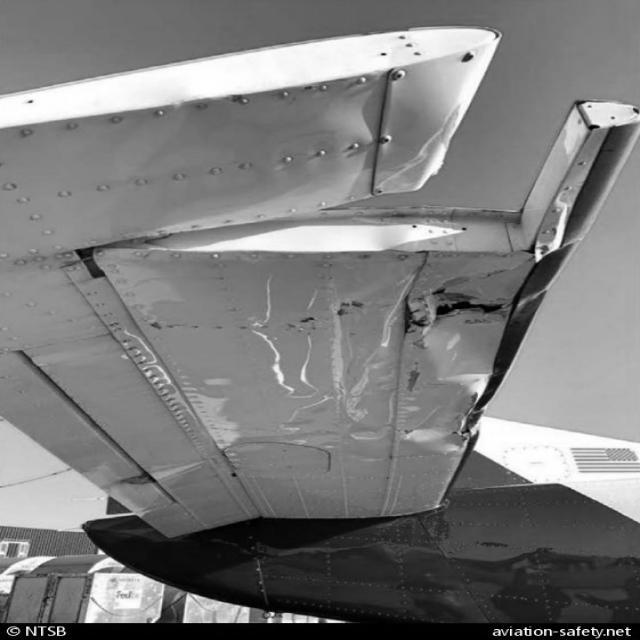dent: (392, 414, 470, 462)
